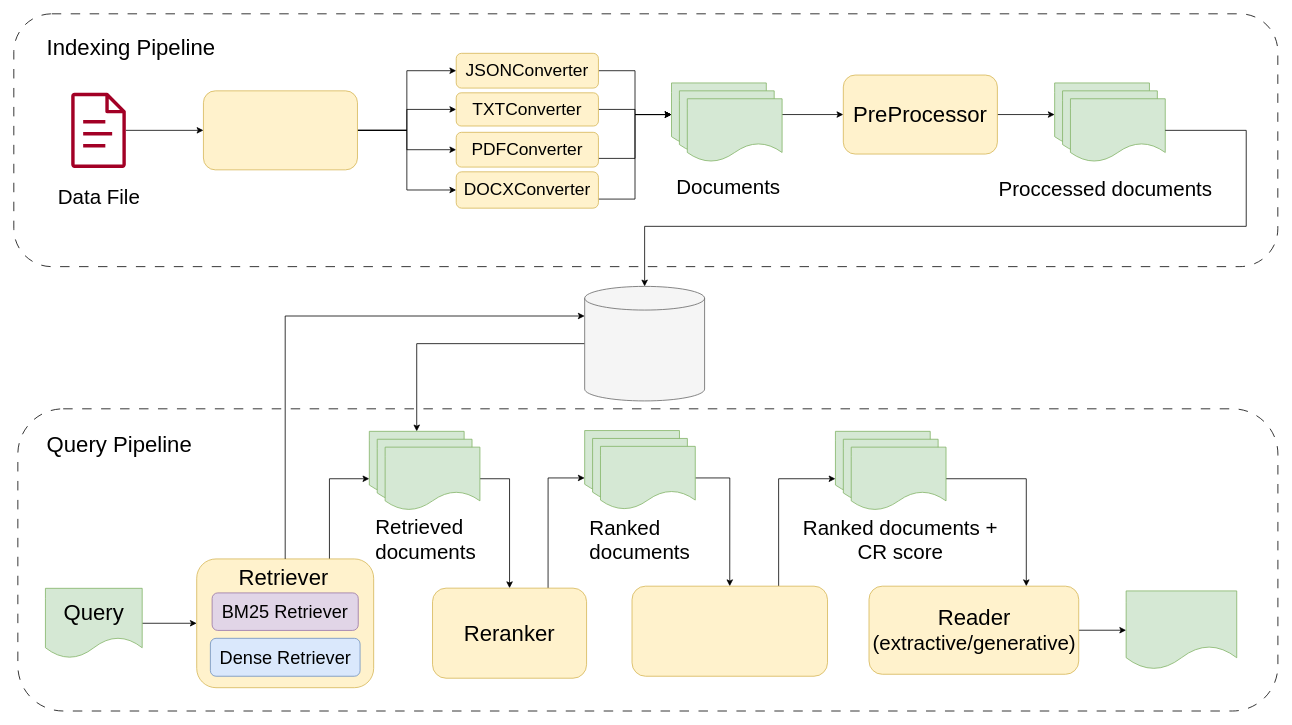
Some shapes in this 1292 by 725 pixel diagram are drawn without their labels. The centre of each missing label's shape, as x and y in pixels:
"ContextRelevance Evaluator" belongs at point (729, 630).
"Document Store" belongs at point (644, 343).
"FileClassifier" belongs at point (280, 130).
"Response" belongs at point (1181, 630).
